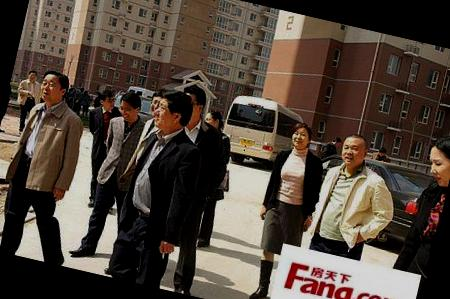no_helmet: (150, 84, 198, 138), (419, 125, 450, 192), (34, 66, 74, 110), (334, 128, 372, 173), (178, 83, 210, 131), (284, 117, 320, 153), (112, 88, 144, 126), (198, 107, 227, 139), (144, 88, 168, 124), (94, 86, 118, 111), (24, 66, 40, 84)
